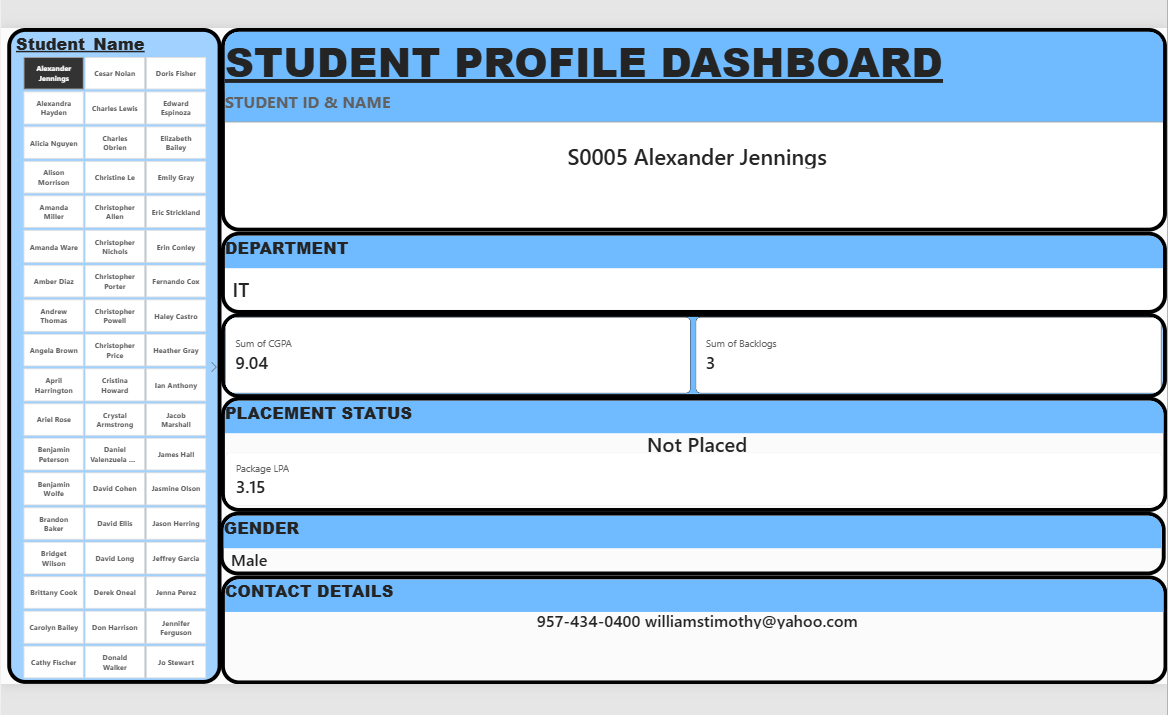

Layout of this report page (visuals, bound fields, positions):
{"tool":"powerbi","page":{"name":"Page 1","canvas":[1920,1080],"ordinal":0},"visuals":[{"type":"slicer","fields":{"Values":["Enhanced_Engineering_College_Placement_Record (4).Student_Name"]},"box":[10,0,352.5,1080],"z":1},{"type":"cardVisual","title":"PLACEMENT STATUS","fields":{"Data":["Sum(Enhanced_Engineering_College_Placement_Record (4).Package_LPA)"],"Rows":["Enhanced_Engineering_College_Placement_Record (4).Placement_Status"]},"box":[362.3,607.2,1558.2,189.4],"z":2},{"type":"cardVisual","title":"STUDENT PROFILE DASHBOARD","fields":{"Rows":["Enhanced_Engineering_College_Placement_Record (4).Student_ID","Enhanced_Engineering_College_Placement_Record (4).Student_Name"]},"box":[362.5,0,1557.5,335],"z":3},{"type":"cardVisual","title":"DEPARTMENT","fields":{"Rows":["Enhanced_Engineering_College_Placement_Record (4).Department"]},"box":[362.5,335,1557.5,135],"z":4},{"type":"cardVisual","fields":{"Data":["Sum(Enhanced_Engineering_College_Placement_Record (4).CGPA)","Sum(Enhanced_Engineering_College_Placement_Record (4).Backlogs)"]},"box":[362.5,470,1557.5,140],"z":5},{"type":"cardVisual","title":"GENDER","fields":{"Rows":["Enhanced_Engineering_College_Placement_Record (4).Gender"]},"box":[360.2,796.6,1557.5,105],"z":6},{"type":"cardVisual","title":"CONTACT DETAILS","fields":{"Rows":["Enhanced_Engineering_College_Placement_Record (4).Contact_Number","Enhanced_Engineering_College_Placement_Record (4).Email"]},"box":[362.3,901.5,1558.2,179.1],"z":7}]}

Visuals, with their boxes in screenshot pixels (x1, y1, x2, y2):
slicer - Enhanced_Engineering_College_Placement_Record (4).Student_Name: <region>9, 27, 221, 675</region>
"PLACEMENT STATUS" cardVisual: <region>220, 392, 1155, 505</region>
"STUDENT PROFILE DASHBOARD" cardVisual: <region>221, 27, 1155, 228</region>
"DEPARTMENT" cardVisual: <region>221, 228, 1155, 309</region>
cardVisual - Sum(Enhanced_Engineering_College_Placement_Record (4).CGPA) x Sum(Enhanced_Engineering_College_Placement_Record (4).Backlogs): <region>221, 309, 1155, 393</region>
"GENDER" cardVisual: <region>219, 505, 1154, 568</region>
"CONTACT DETAILS" cardVisual: <region>220, 568, 1155, 676</region>
